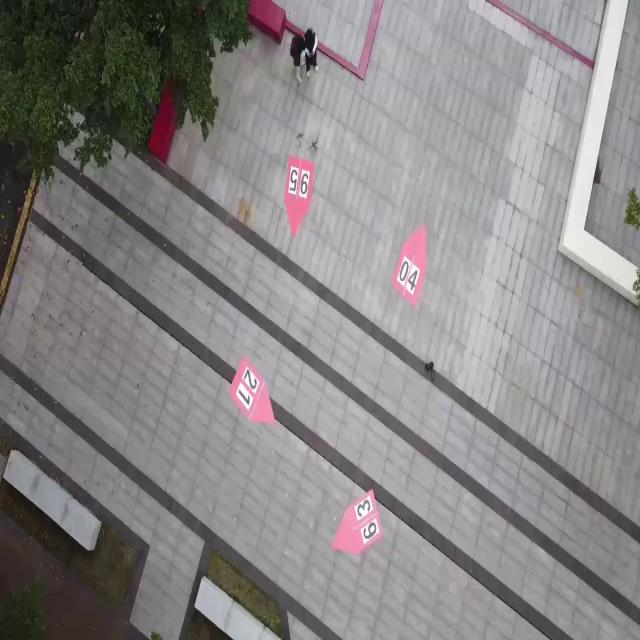-sign-: (332, 488, 384, 556), (230, 355, 276, 428), (391, 222, 428, 306), (284, 154, 314, 238)
